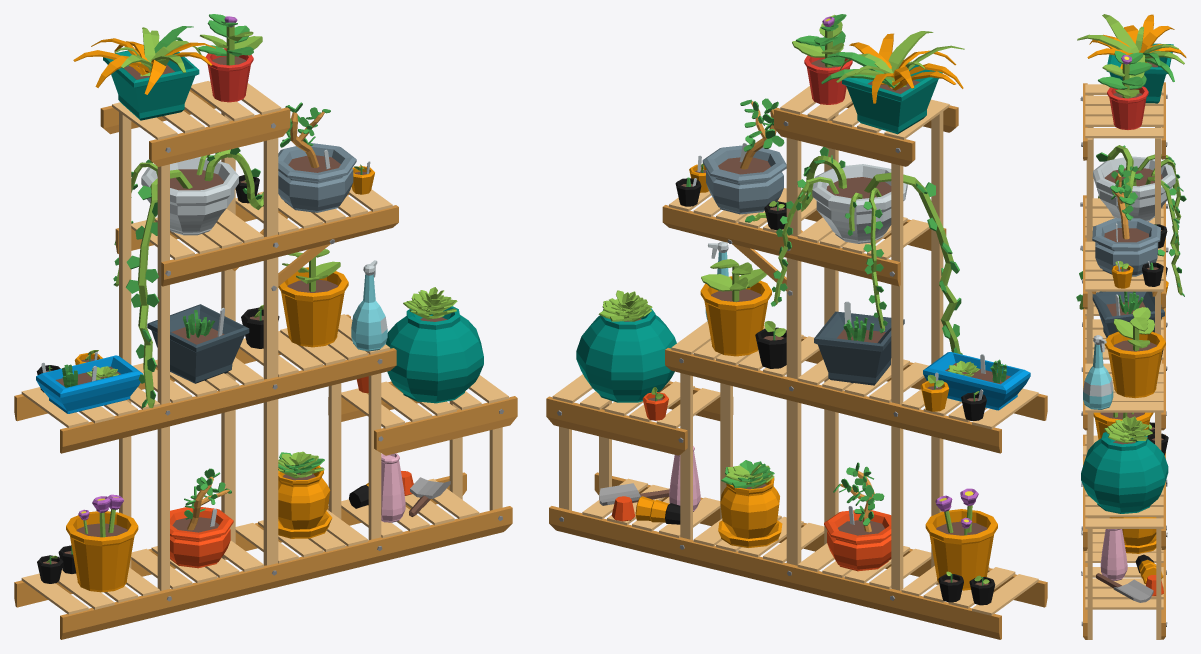
File: AssortedShelfPlants.glb
The picture shows the model from 3 angles, left to right: view 1: azimuth 30°, elevation 25°; view 2: azimuth 150°, elevation 25°; view 3: azimuth 270°, elevation 25°; orthographic projection. The views are drawn at different scales.
Visible parts, largest first — view 1: group1308063879; view 2: group1308063879; view 3: group1308063879.
Part boxes in pixels (x1=…): group1308063879: x1=14, y1=14, x2=517, y2=639; group1308063879: x1=546, y1=14, x2=1047, y2=639; group1308063879: x1=1076, y1=14, x2=1186, y2=639.
Bounding box in the file's own units: 1.84 × 2.16 × 0.4516.
1 material, 1 textured.
